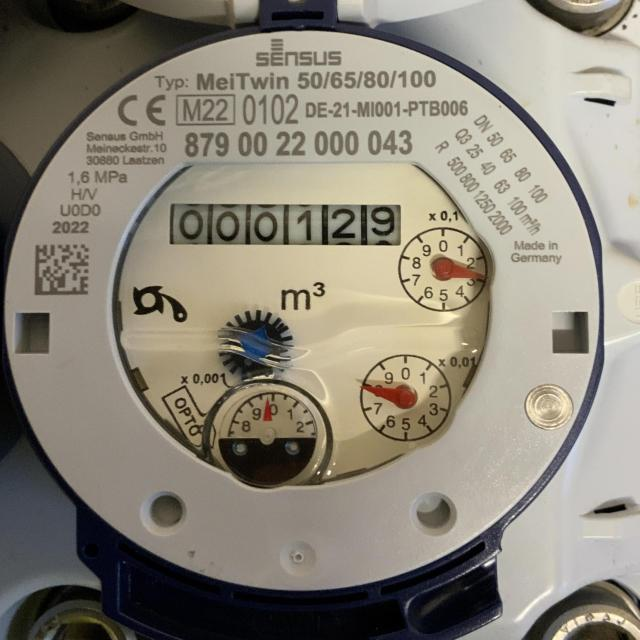gaz_meter: (114, 127, 495, 490)
indication: (170, 202, 403, 247)
